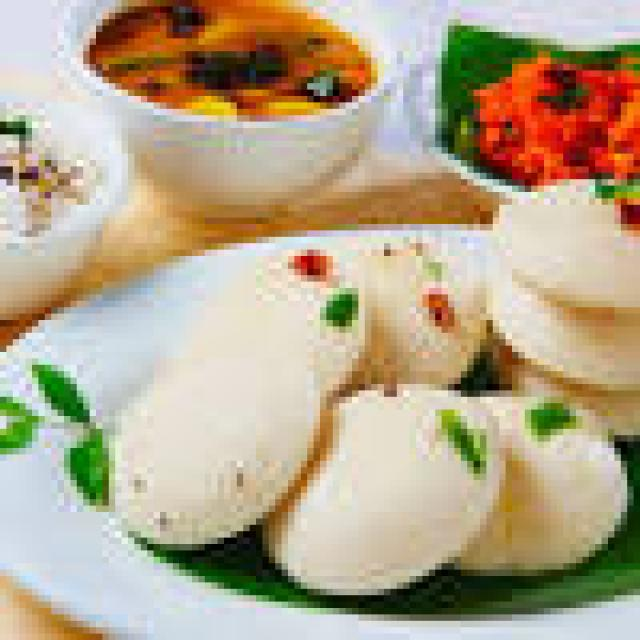idli: (276, 378, 487, 595), (96, 333, 301, 544), (435, 378, 621, 570), (180, 237, 358, 403), (333, 224, 486, 384), (467, 236, 634, 378), (467, 307, 634, 435), (486, 166, 634, 301)
